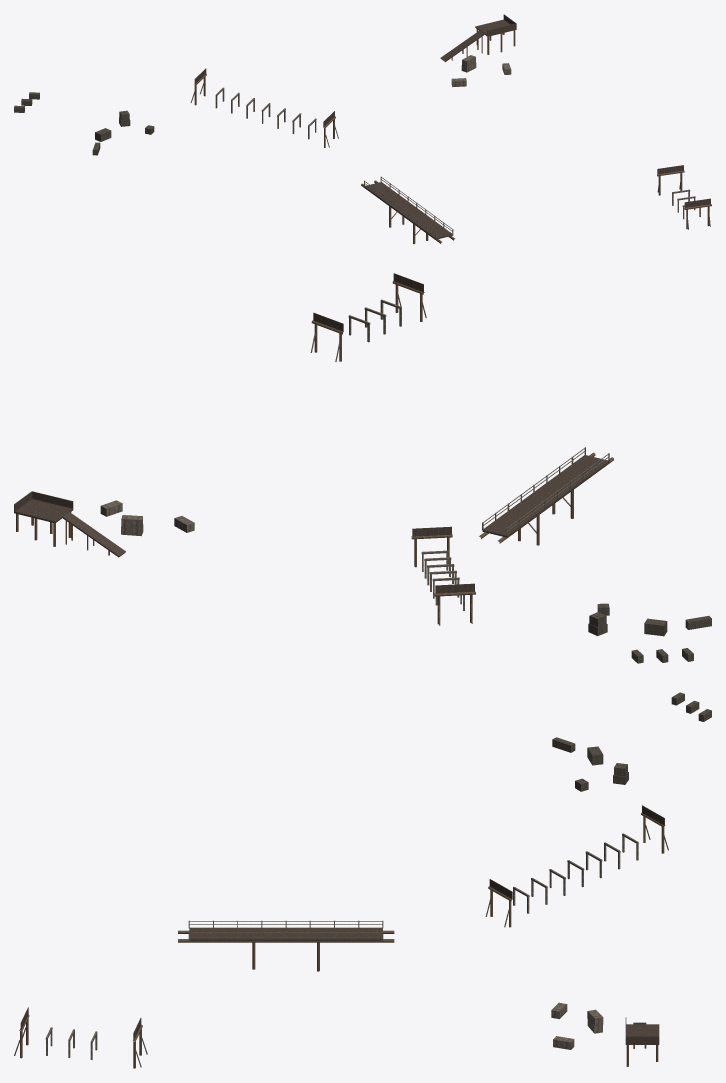
The model's file is structures.glb.
3 views of the same model, one above another, from view 1: azimuth 30°, elevation 25°; view 2: azimuth 150°, elevation 25°; view 3: azimuth 270°, elevation 25° (orthographic). The views are drawn at different scales.
Visible parts, largest first — view 1: struct_weathered_planks, struct_rough_wood, struct_pine_bark, struct_rock_wall_08; view 2: struct_weathered_planks, struct_rough_wood, struct_pine_bark, struct_rock_wall_08; view 3: struct_weathered_planks, struct_rough_wood, struct_pine_bark, struct_rock_wall_08.
Boxes of the visible parts, x1,y1,x2,y2 form: struct_weathered_planks: (194, 14, 710, 239); struct_rough_wood: (190, 55, 710, 238); struct_pine_bark: (194, 29, 711, 243); struct_rock_wall_08: (14, 92, 154, 155); struct_weathered_planks: (14, 273, 609, 593); struct_rough_wood: (100, 294, 609, 625); struct_pine_bark: (16, 281, 613, 624); struct_rock_wall_08: (588, 603, 711, 663); struct_weathered_planks: (20, 805, 664, 1044); struct_rough_wood: (14, 825, 668, 1067); struct_pine_bark: (19, 812, 665, 1068); struct_rock_wall_08: (552, 692, 711, 791).
Size of the model in its own units: 100 by 16.09 by 92.64.
Materials: 4 (4 with a texture image).
